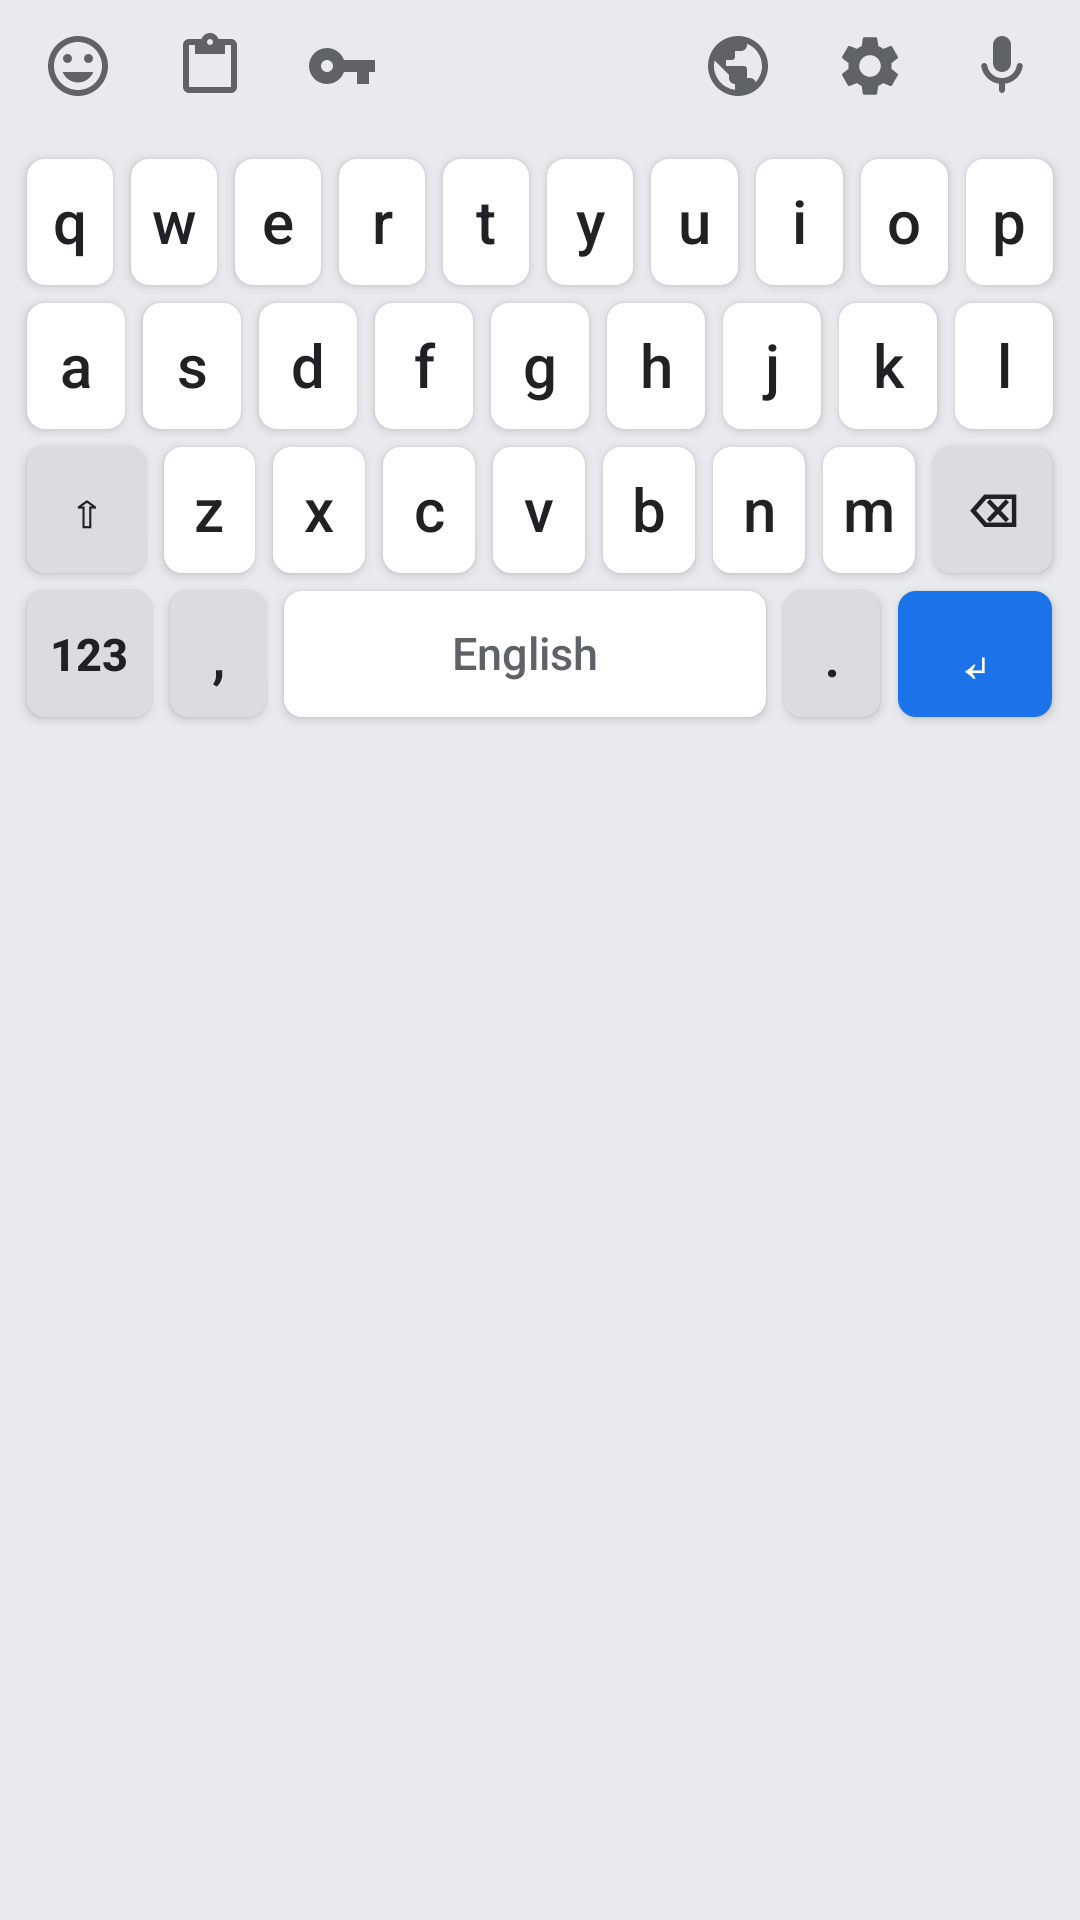

Icon click points for this 1080px x 1920px phone screenshot, format [x,y]:
Clipboard: [210,63]
Credentials: [342,66]
Emoji: [78,66]
Language: [738,66]
Settings: [870,66]
Voice: [1002,64]
